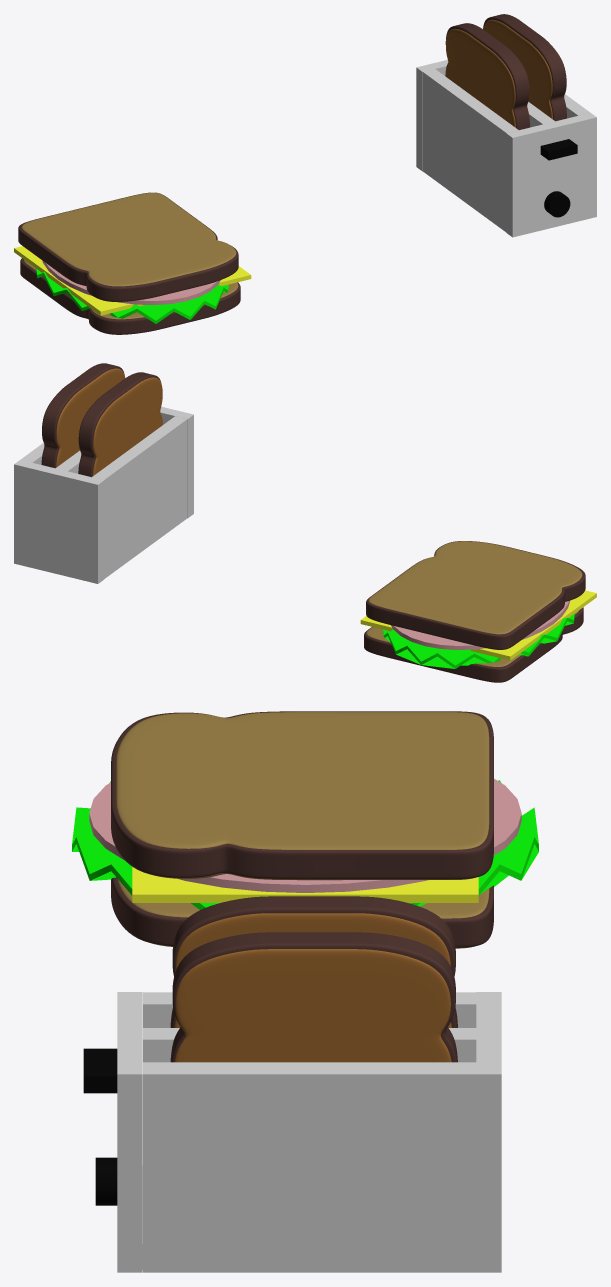
Rendered from hamSandi.fbx.
3 views of the same model, one above another, from view 1: azimuth 30°, elevation 25°; view 2: azimuth 150°, elevation 25°; view 3: azimuth 270°, elevation 25° (orthographic). The views are drawn at different scales.
Parts seen in each view (by area): view 1: bread1.003, TOASTER, bread1.004, bread1.005; view 2: bread1.003, TOASTER, bread1.004, bread1.005; view 3: TOASTER, bread1.003, bread1.005, bread1.004.
Boxes of the visible parts, x1=… form: bread1.003: x1=14, y1=192, x2=251, y2=334; TOASTER: x1=416, y1=59, x2=596, y2=237; bread1.004: x1=445, y1=23, x2=530, y2=129; bread1.005: x1=483, y1=14, x2=567, y2=121; bread1.003: x1=360, y1=541, x2=596, y2=682; TOASTER: x1=14, y1=406, x2=193, y2=583; bread1.004: x1=78, y1=372, x2=162, y2=477; bread1.005: x1=41, y1=363, x2=125, y2=468; TOASTER: x1=83, y1=992, x2=501, y2=1272; bread1.003: x1=72, y1=711, x2=538, y2=948; bread1.005: x1=170, y1=932, x2=457, y2=1062; bread1.004: x1=170, y1=896, x2=457, y2=1027.
Size of the model in its own units: 608 by 191 by 249.
